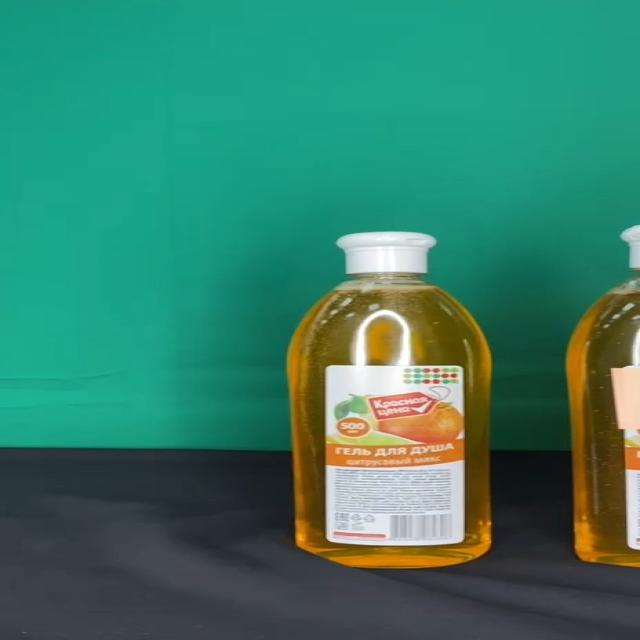Bottle: (288, 232, 492, 570)
Cap: (336, 232, 437, 274)
